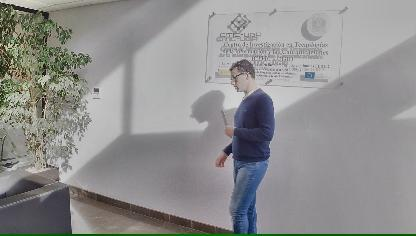knife: (218, 106, 232, 136)
